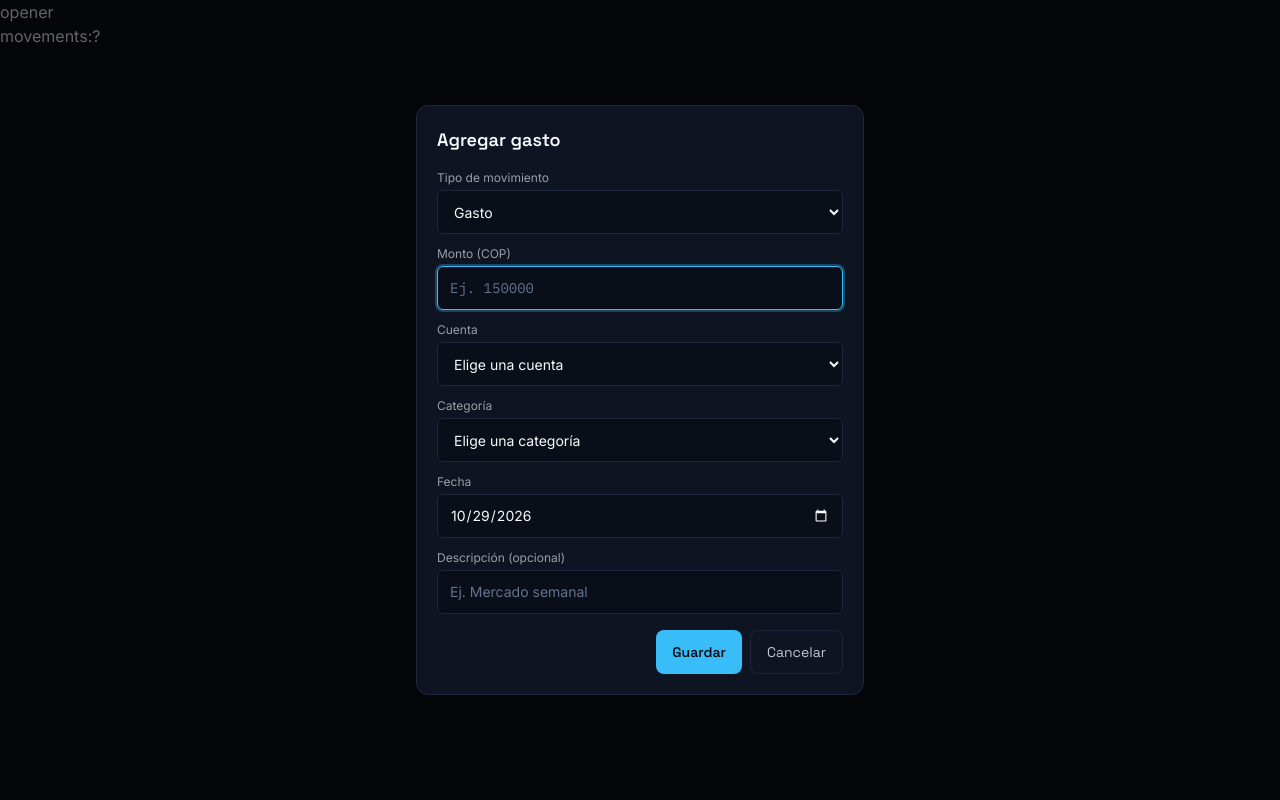
Test case: MovementModal › blocks the request with Spanish validation when required fields are missing
The width and height of the screenshot is (1280, 800).
Click the button "Guardar". click: (699, 652)
box: [656,630,742,674]
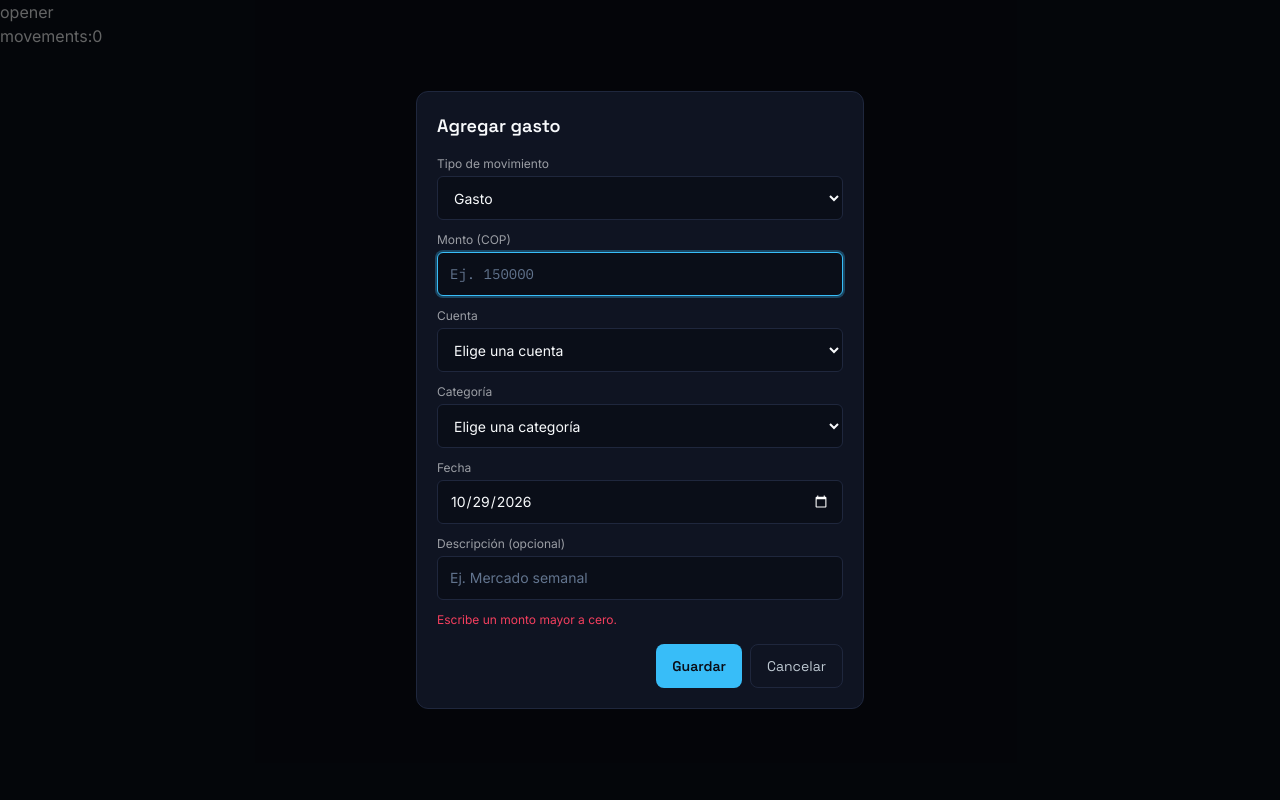
Result: the message shows "monto mayor a cero" at [437,612,617,627]
